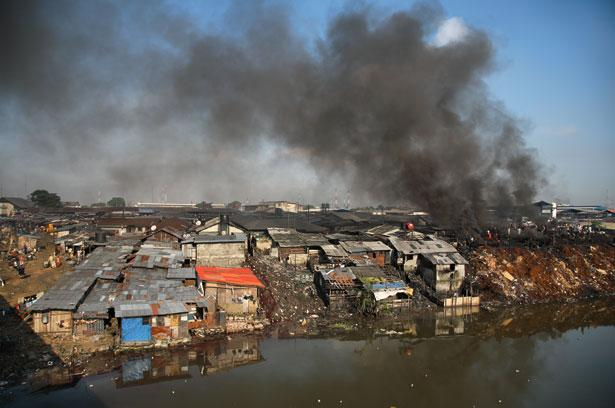smoke: (0, 0, 348, 195), (349, 5, 552, 235)
